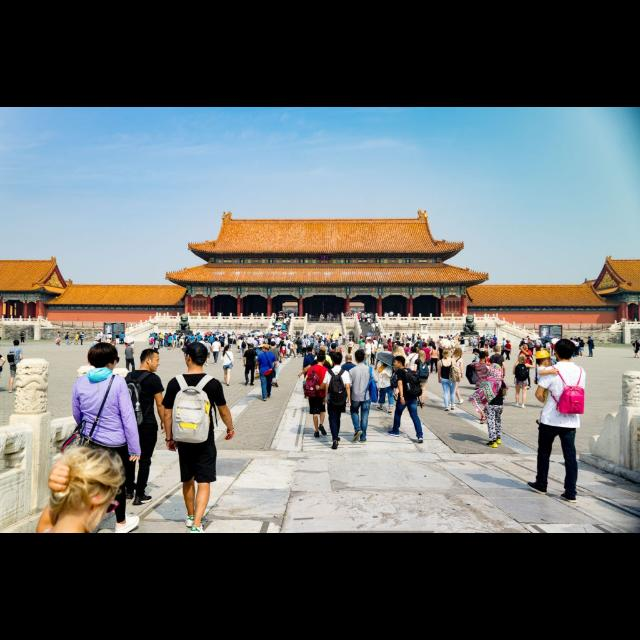head: (57, 448, 119, 532), (90, 342, 118, 372), (184, 341, 210, 369), (140, 349, 162, 373), (554, 339, 576, 361), (536, 352, 552, 370), (490, 364, 502, 381), (354, 350, 366, 366), (394, 356, 406, 370), (332, 354, 344, 366), (317, 354, 327, 366), (478, 352, 488, 362), (318, 351, 326, 361), (262, 346, 272, 354), (442, 349, 450, 358), (519, 356, 527, 364), (454, 349, 462, 357), (494, 347, 502, 355), (345, 356, 353, 364), (382, 357, 390, 365), (409, 347, 417, 355), (393, 346, 401, 354), (306, 347, 314, 355), (419, 351, 426, 359), (332, 343, 338, 352), (320, 348, 326, 356), (473, 349, 479, 356), (523, 344, 529, 351), (384, 345, 391, 351), (484, 352, 490, 358), (14, 340, 20, 346), (226, 346, 232, 352), (249, 344, 255, 350), (271, 342, 277, 348), (433, 346, 437, 352), (570, 338, 574, 342), (578, 338, 582, 342), (507, 341, 511, 345), (492, 338, 496, 342), (424, 344, 428, 348), (406, 344, 410, 348), (370, 340, 374, 344), (408, 338, 412, 342), (397, 338, 401, 342), (388, 339, 392, 343), (422, 338, 426, 342), (304, 337, 308, 341), (95, 338, 99, 342), (128, 344, 132, 348), (155, 338, 159, 342), (215, 339, 219, 343), (206, 339, 210, 343), (200, 338, 204, 342), (122, 332, 125, 336), (366, 341, 369, 344), (588, 338, 592, 340), (556, 338, 558, 342), (504, 338, 506, 342), (478, 338, 482, 340), (374, 338, 376, 342), (348, 340, 352, 342), (418, 338, 420, 342), (390, 334, 392, 338), (298, 338, 302, 340), (385, 336, 387, 339), (292, 341, 294, 344), (636, 342, 638, 344), (581, 341, 583, 343), (576, 340, 578, 342), (523, 339, 525, 341), (527, 337, 529, 339), (530, 339, 532, 341), (494, 336, 496, 338), (480, 339, 482, 341), (486, 336, 488, 338), (471, 336, 473, 338), (474, 338, 476, 340), (462, 338, 464, 340), (363, 341, 365, 343), (361, 337, 363, 339), (431, 340, 433, 342), (374, 334, 376, 336), (373, 323, 375, 325), (368, 318, 370, 320), (22, 333, 24, 335), (58, 333, 60, 335), (67, 333, 69, 335), (77, 333, 79, 335), (83, 333, 85, 335), (117, 333, 119, 335), (171, 336, 173, 338), (242, 339, 244, 341)
person: (525, 336, 591, 506), (109, 346, 171, 508), (312, 352, 353, 452), (466, 360, 510, 450), (384, 354, 426, 446), (345, 349, 381, 445), (300, 351, 332, 439), (297, 349, 333, 425), (532, 349, 562, 437), (464, 350, 496, 426), (434, 346, 464, 414), (252, 342, 280, 403), (374, 355, 398, 417), (511, 354, 537, 411), (337, 353, 359, 415), (374, 341, 396, 399), (312, 345, 334, 403), (448, 347, 468, 408), (488, 344, 508, 402), (7, 338, 26, 396), (404, 345, 424, 399), (300, 346, 320, 400), (411, 349, 429, 408), (324, 342, 344, 393), (388, 343, 404, 402), (516, 342, 534, 392), (242, 342, 258, 388), (268, 342, 284, 388), (469, 348, 485, 392), (219, 344, 235, 388), (87, 337, 103, 371), (480, 349, 494, 387), (420, 342, 432, 376), (124, 342, 136, 376), (429, 344, 441, 376), (201, 338, 213, 368), (210, 338, 222, 367), (196, 338, 208, 366), (150, 338, 162, 360), (498, 337, 508, 363), (363, 340, 372, 368), (402, 342, 412, 366), (344, 336, 356, 356), (503, 340, 513, 362), (238, 338, 248, 360), (286, 341, 298, 359), (577, 339, 587, 359), (393, 338, 402, 360), (369, 339, 376, 367), (385, 338, 393, 362), (428, 338, 437, 359), (371, 336, 379, 359), (550, 339, 560, 357), (358, 340, 367, 360), (588, 336, 596, 358), (568, 338, 576, 360), (301, 336, 309, 358), (519, 338, 527, 358), (478, 338, 486, 358), (415, 338, 423, 358), (387, 334, 395, 354), (294, 338, 302, 358), (576, 338, 584, 357), (528, 338, 536, 356), (491, 334, 499, 352), (420, 338, 428, 356), (476, 336, 484, 352), (458, 337, 466, 353), (405, 338, 413, 354), (18, 330, 26, 346), (166, 335, 174, 351), (382, 335, 388, 355), (574, 339, 580, 358), (54, 331, 61, 347), (73, 333, 81, 347), (78, 331, 85, 347), (118, 332, 126, 346), (472, 336, 478, 354), (485, 335, 491, 351), (467, 335, 473, 351), (358, 336, 364, 352), (64, 332, 70, 348), (525, 335, 531, 349), (489, 338, 495, 352), (115, 333, 121, 347), (372, 334, 378, 346), (370, 322, 376, 334), (366, 316, 372, 328)
